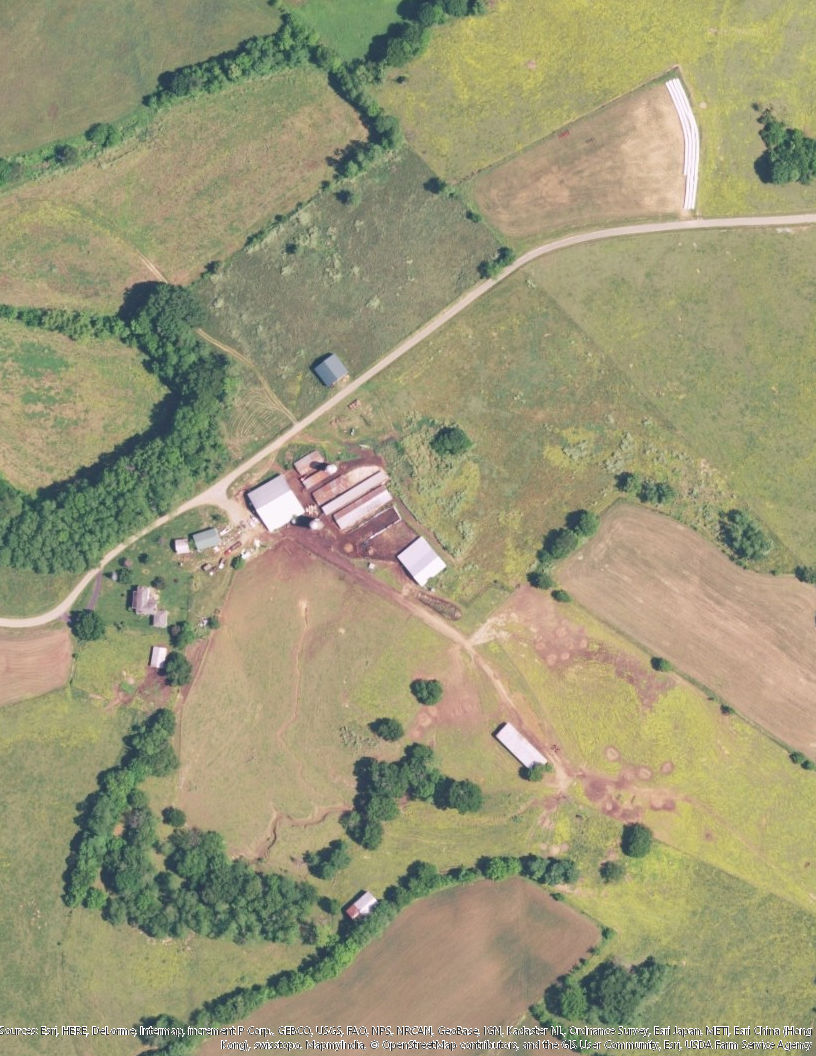cafo: (290, 446, 404, 530), (243, 470, 313, 534), (390, 531, 453, 589), (493, 722, 555, 777)
